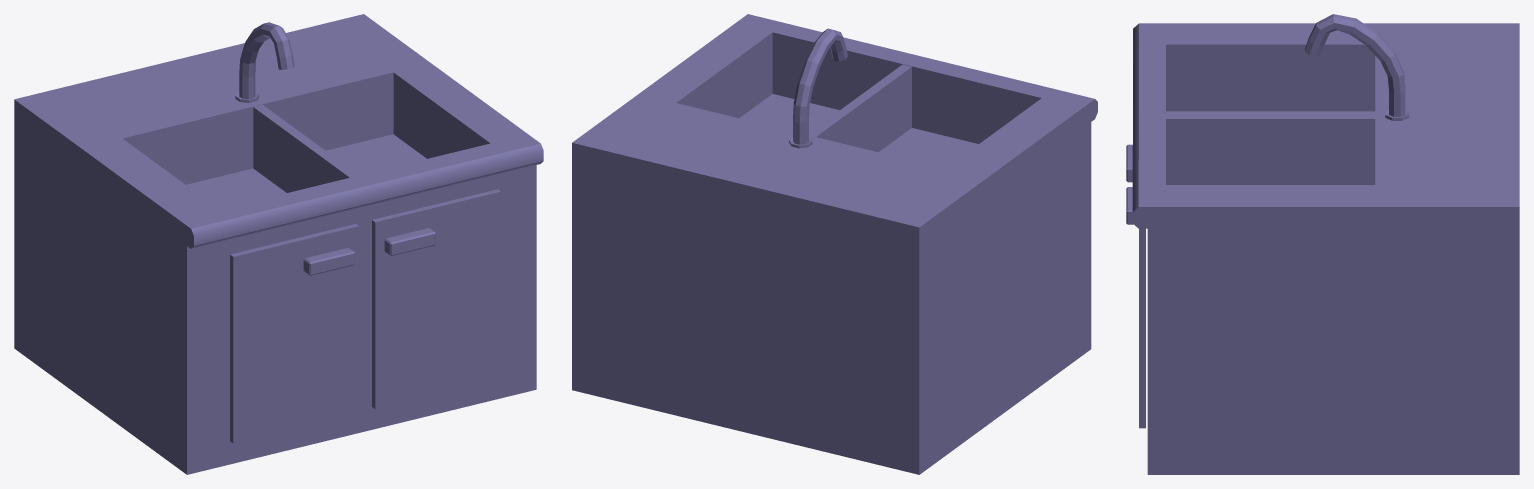
The model's file is BlockACocina02Water.fbx.
The picture shows the model from 3 angles, left to right: view 1: azimuth 30°, elevation 25°; view 2: azimuth 150°, elevation 25°; view 3: azimuth 270°, elevation 25°; orthographic projection. The views are drawn at different scales.
Parts seen in each view (by area): view 1: MesadaCocina1; view 2: MesadaCocina1; view 3: MesadaCocina1.
Boxes of the visible parts, bbox=[...] form: MesadaCocina1: bbox=[14, 14, 543, 474]; MesadaCocina1: bbox=[572, 14, 1097, 474]; MesadaCocina1: bbox=[1126, 14, 1519, 474].
Bounding box in the file's own units: 1.18 × 1.1 × 1.06.
